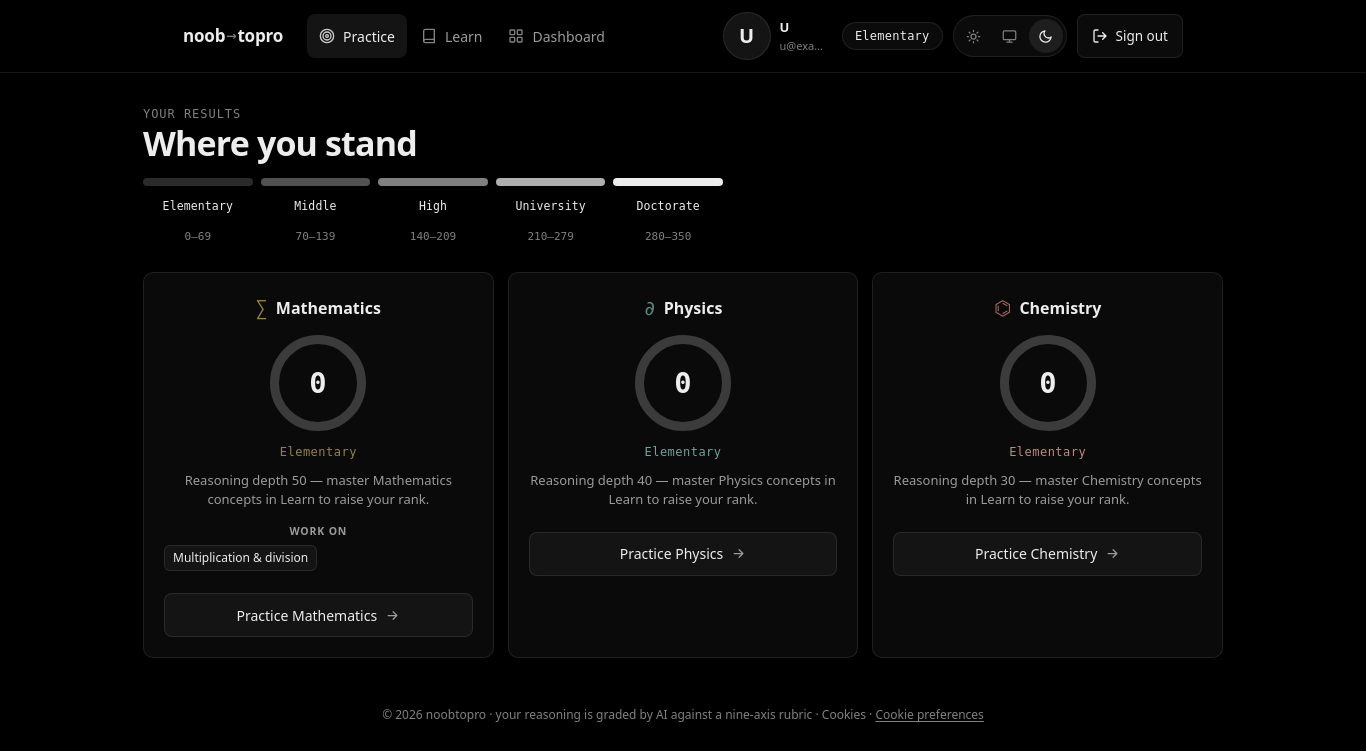
it: Noobtopro — 'Learn this' opens the prepared library concept (draws from the curriculum) › 'Back to concepts' returns to the curriculum browser
The width and height of the screenshot is (1366, 751).
Click the button "Dashboard" at [557, 36], box [496,14,617,58]
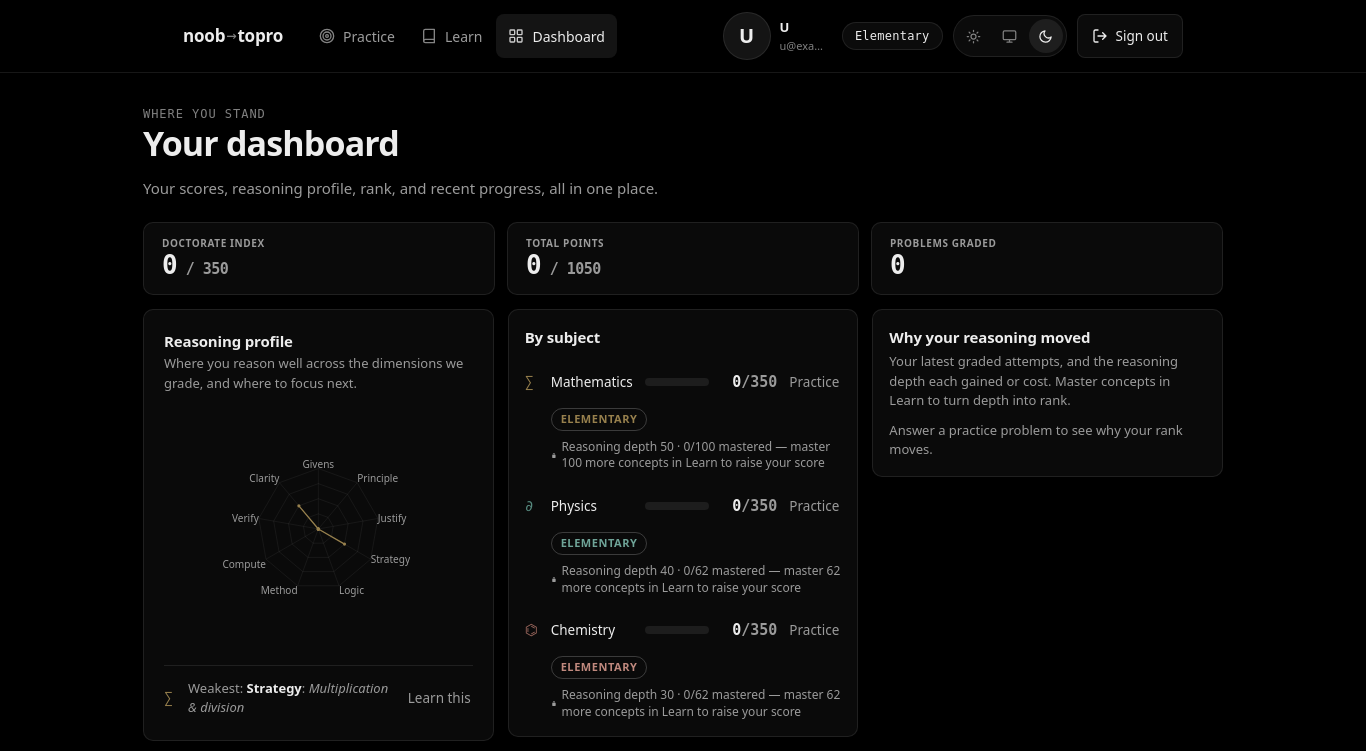
Click the button "Learn this" at [439, 698], box [406,676,473,720]
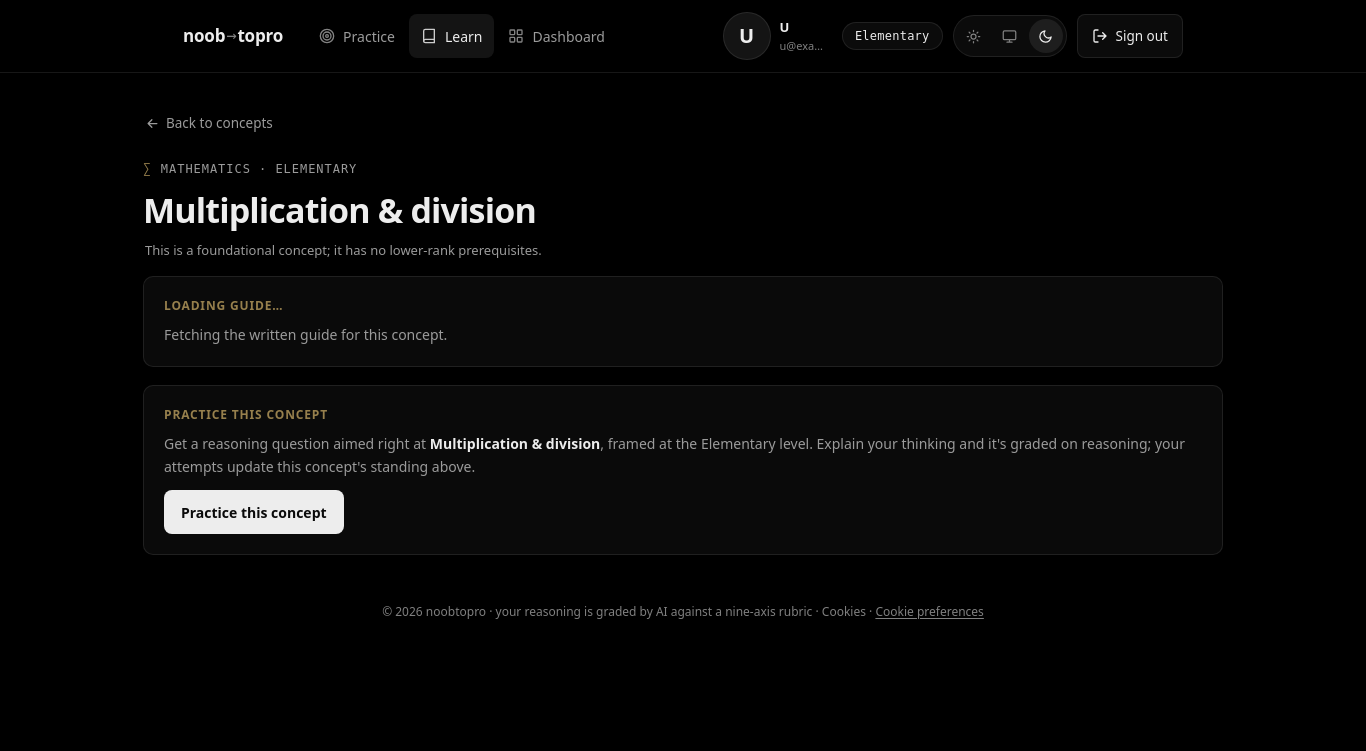
Expected: the heading "Multiplication & division" is shown, [143,186,536,232]
Click the button "Back to concepts" at [209, 123], box [143,101,275,145]
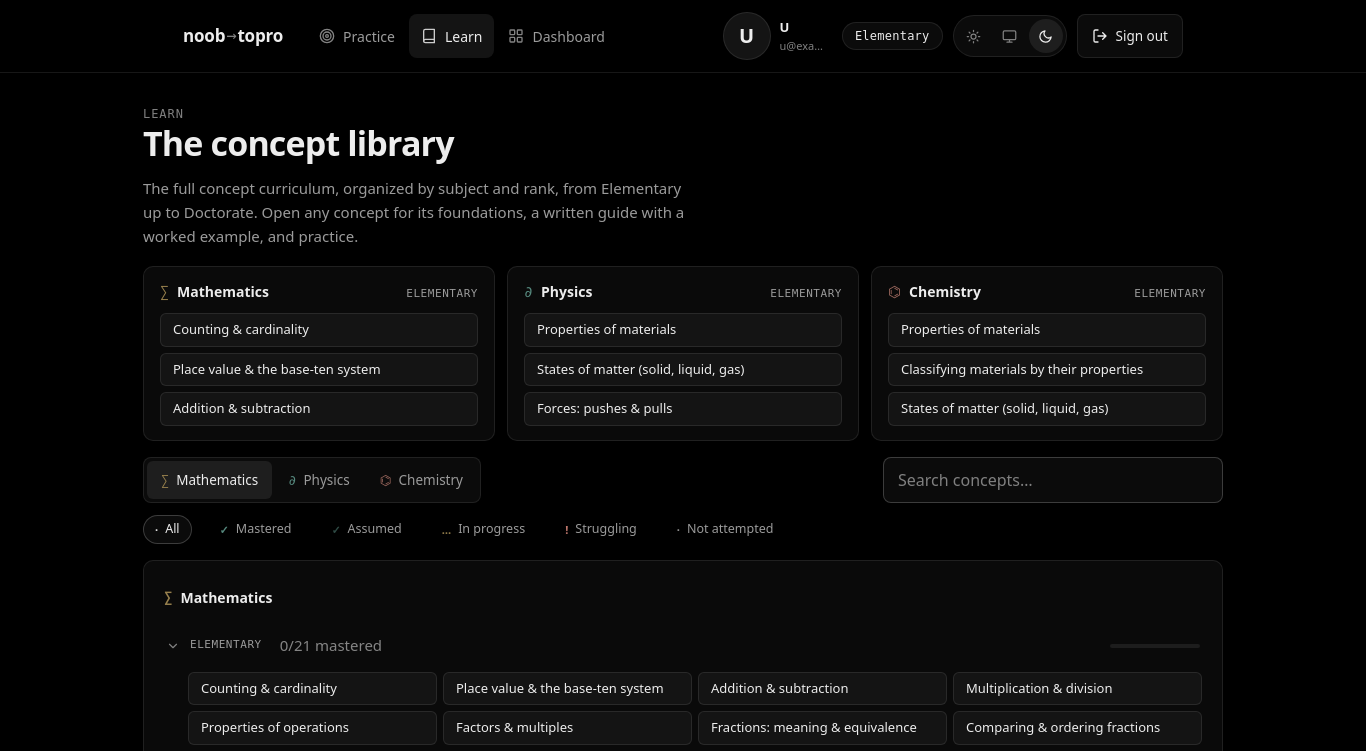
Expected: the search field labelled "Search concepts…" is shown, [883,457,1223,503]
